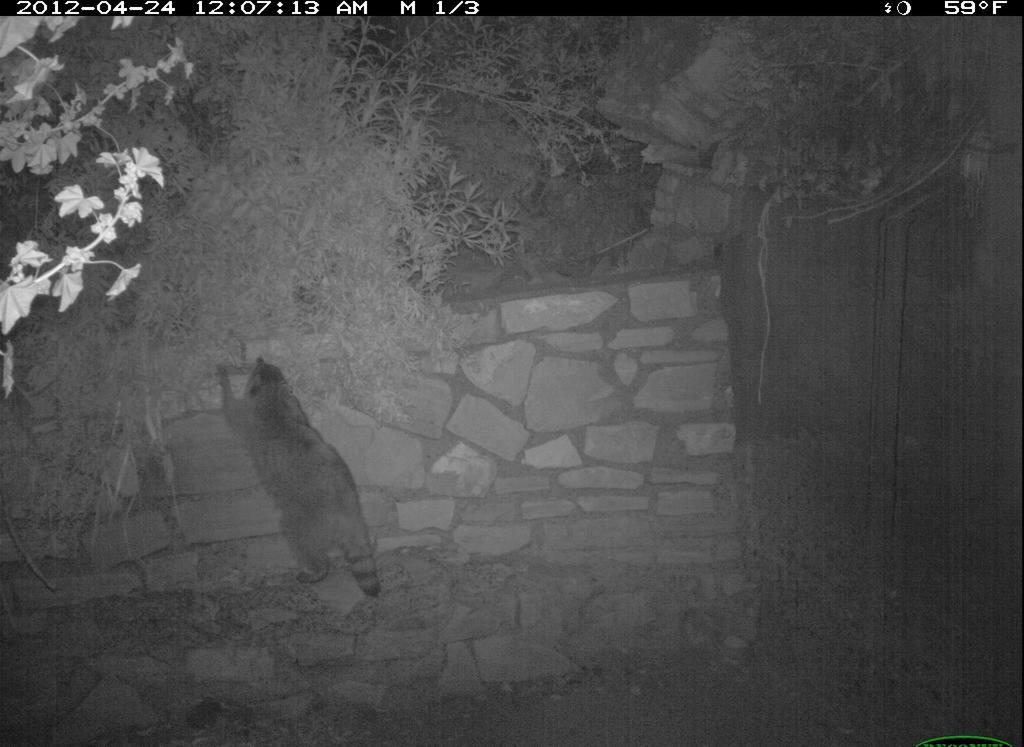raccoon: (213, 351, 387, 610)
